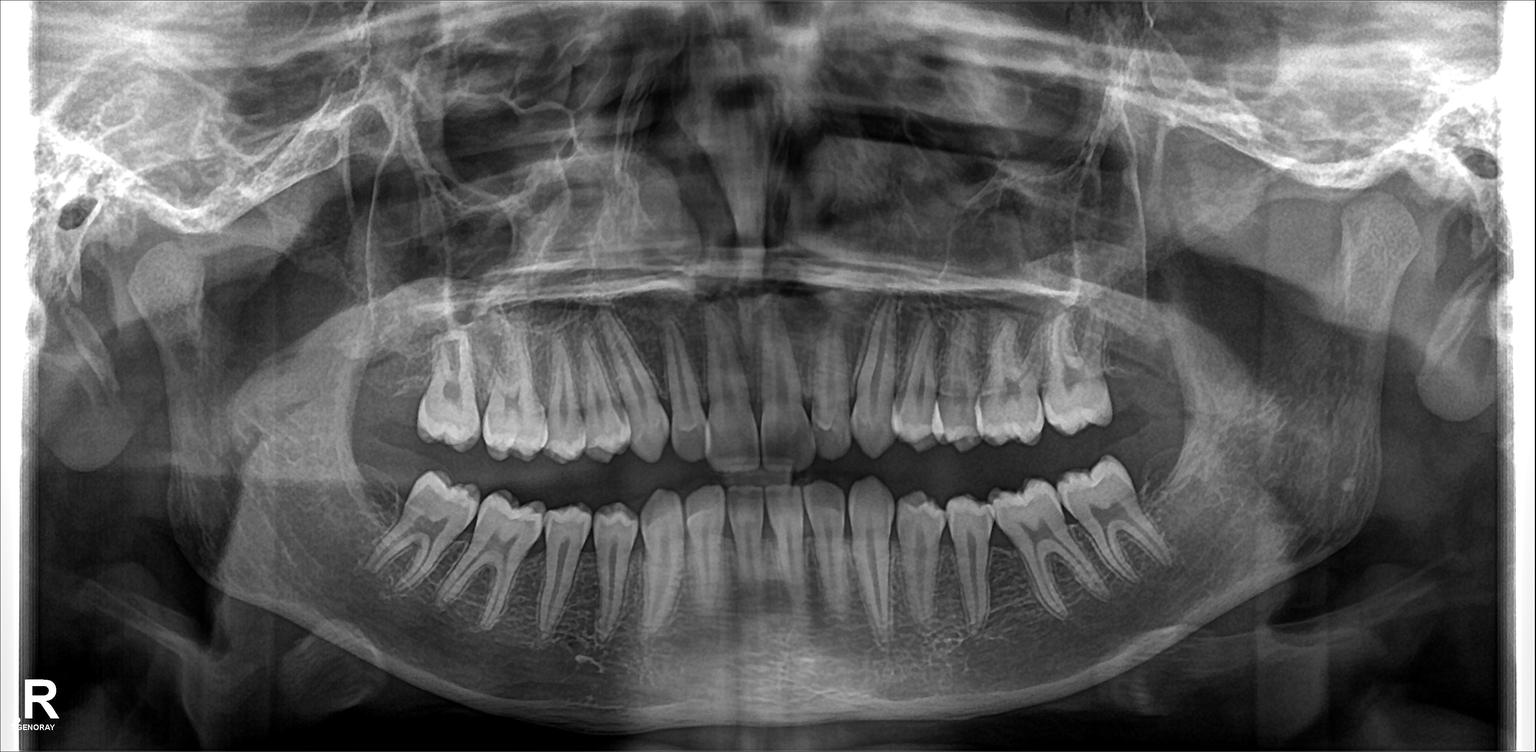Missing Tooth: (1110, 322, 1168, 425), (376, 335, 423, 445), (352, 460, 393, 542), (1143, 463, 1192, 530)
